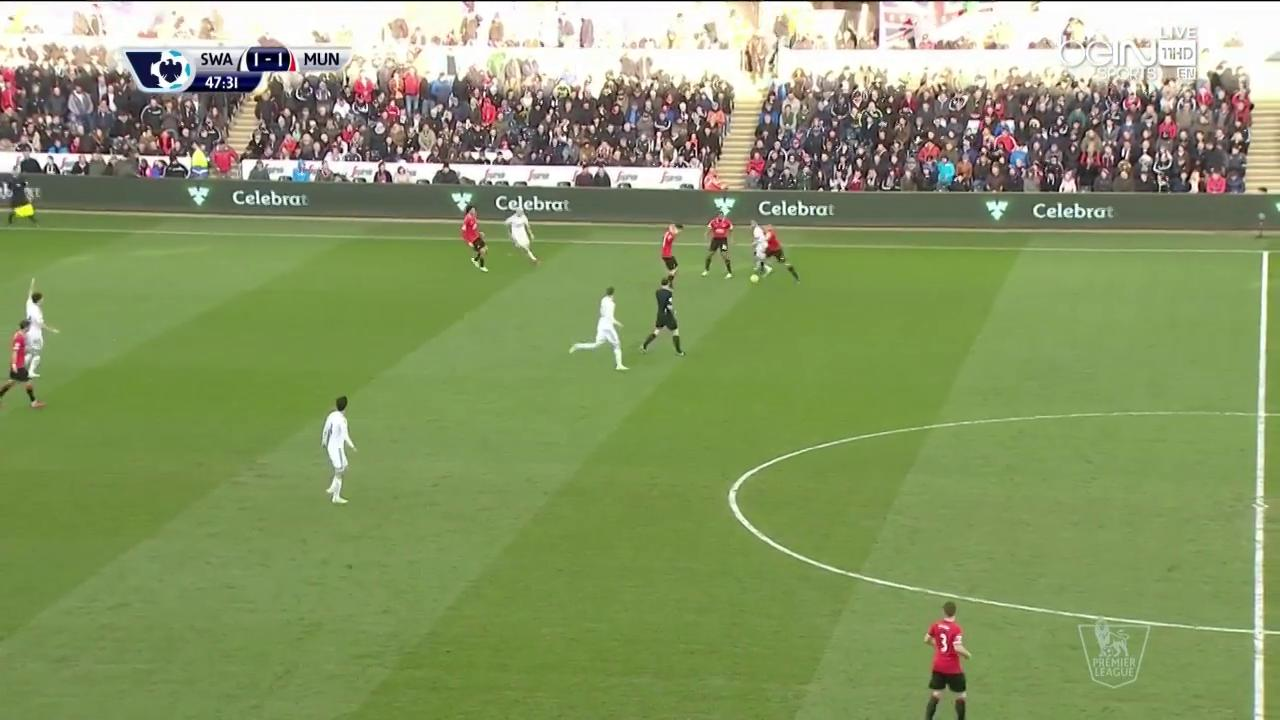football: (749, 274, 760, 284)
